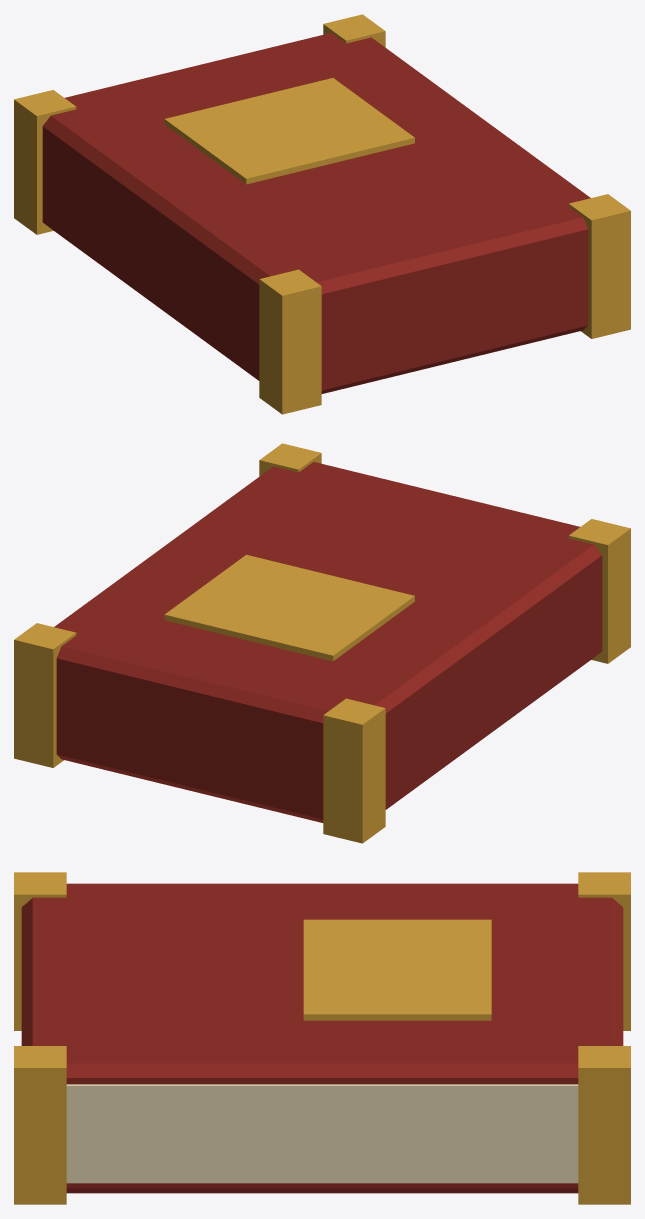
File: TrainManual.fbx
The picture shows the model from 3 angles, top to bottom: view 1: azimuth 30°, elevation 25°; view 2: azimuth 150°, elevation 25°; view 3: azimuth 270°, elevation 25°; orthographic projection. The views are drawn at different scales.
Visible parts, largest first — view 1: TrainManual; view 2: TrainManual; view 3: TrainManual.
Boxes of the visible parts, left/top/right/bottom form: TrainManual: left=14, top=14, right=630, bottom=414; TrainManual: left=14, top=443, right=630, bottom=843; TrainManual: left=14, top=872, right=630, bottom=1204.
Bounding box in the file's own units: 1.2 × 0.4 × 1.6.
